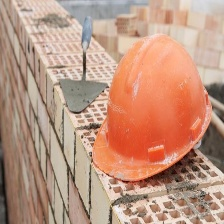helmet: (93, 29, 213, 180)
